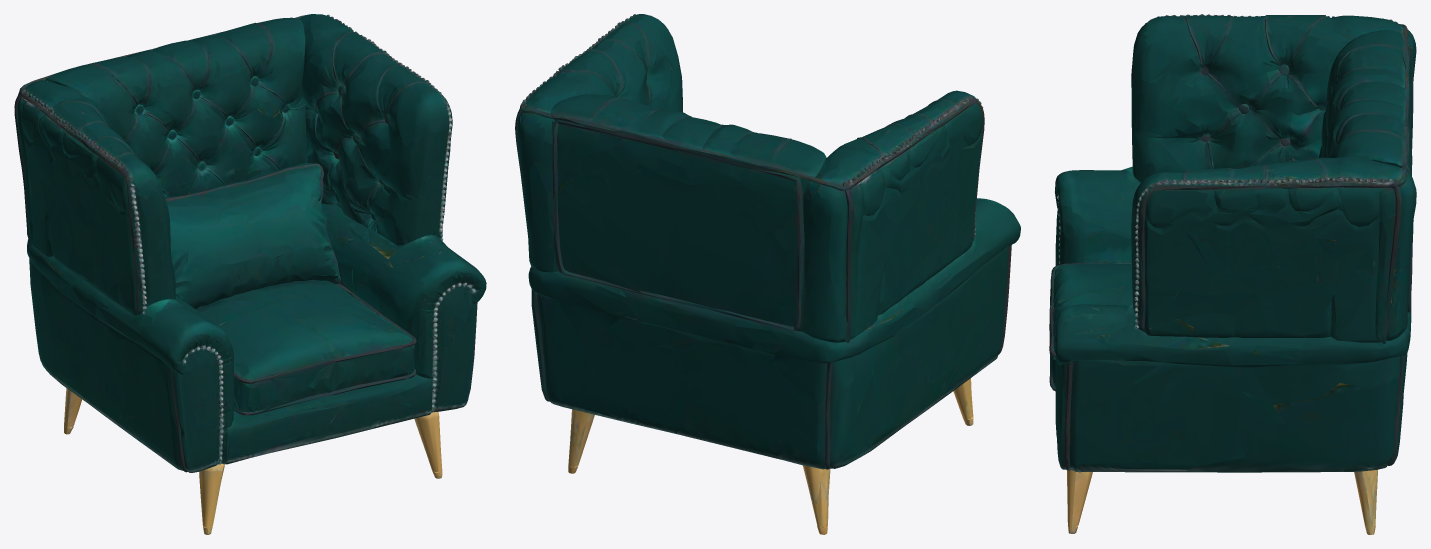
The model's file is mx_hh_armchair.glb.
The picture shows the model from 3 angles, left to right: view 1: azimuth 30°, elevation 25°; view 2: azimuth 150°, elevation 25°; view 3: azimuth 270°, elevation 25°; orthographic projection. The views are drawn at different scales.
Bounding box in the file's own units: 1.83 × 1.9 × 1.65.
1 material, 1 textured.
